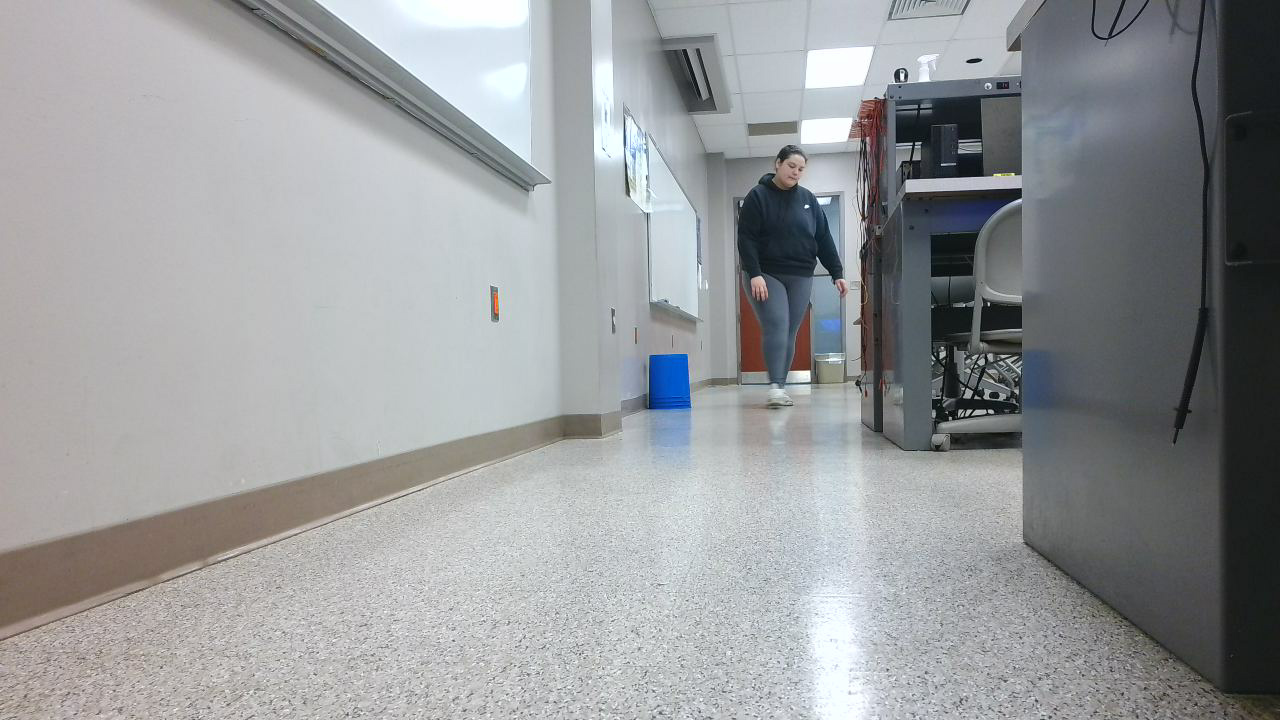blue_bucket: (649, 356, 701, 419)
